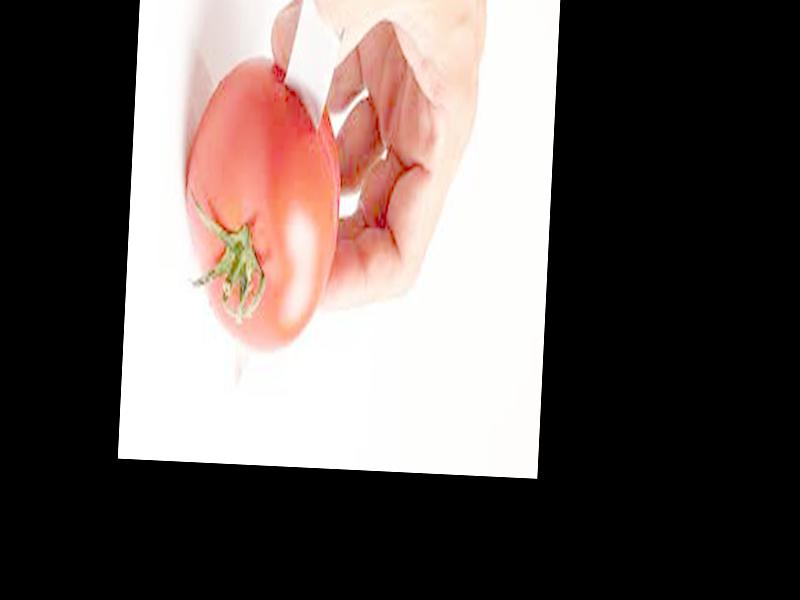Tomato: (179, 55, 347, 349)
